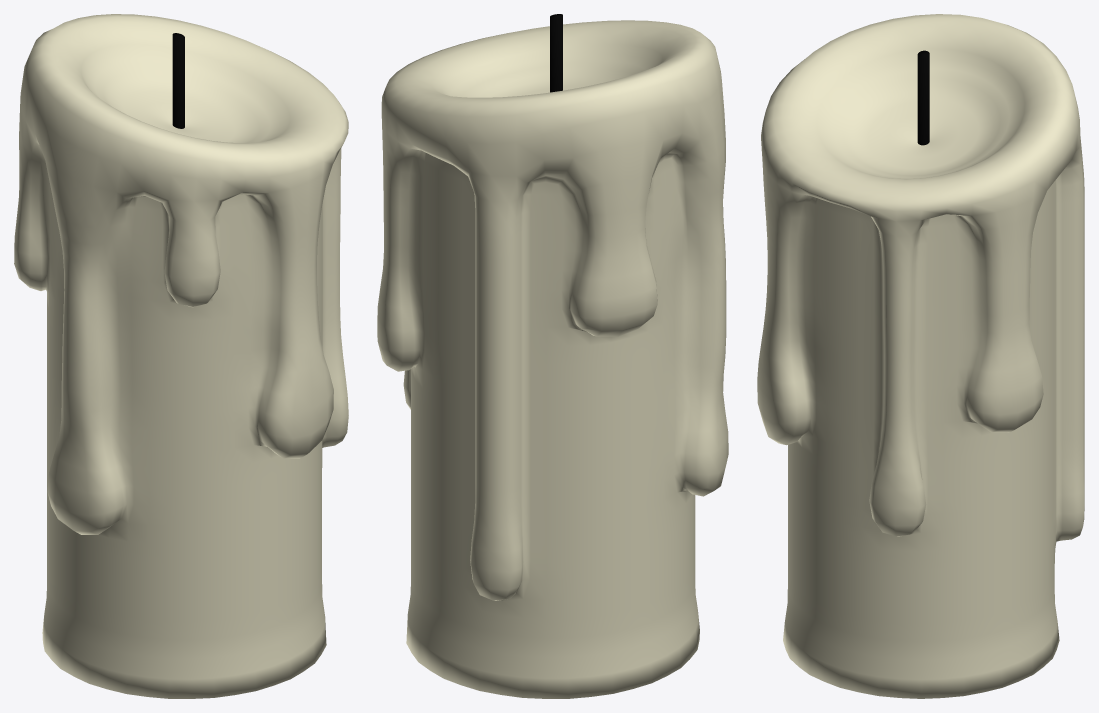
The model's file is vela.fbx.
3 views of the same model, side by side, from view 1: azimuth 30°, elevation 25°; view 2: azimuth 150°, elevation 25°; view 3: azimuth 270°, elevation 25° (orthographic). The views are drawn at different scales.
Parts seen in each view (by area): view 1: vela; view 2: vela; view 3: vela.
Boxes of the visible parts, x1=… form: vela: x1=14, y1=14, x2=348, y2=698; vela: x1=377, y1=14, x2=728, y2=698; vela: x1=757, y1=14, x2=1084, y2=698.
Size of the model in its own units: 240 by 477 by 242.
